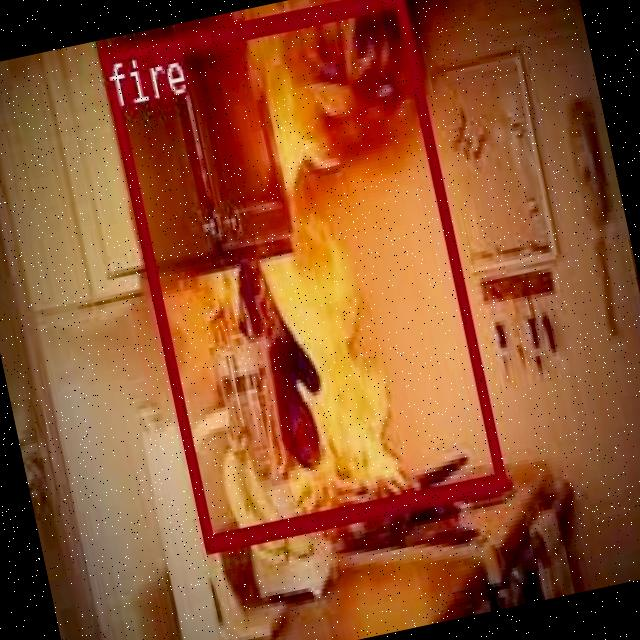fire: (97, 0, 504, 548)
